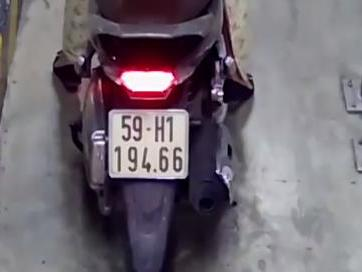num_plate: (107, 107, 188, 181)
